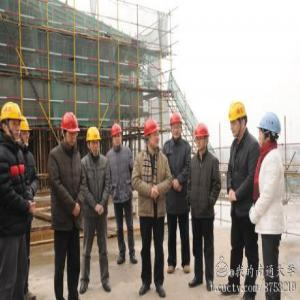blue: (258, 114, 281, 149)
red: (61, 112, 81, 147), (144, 120, 163, 152), (195, 123, 210, 153), (171, 113, 183, 141), (111, 123, 122, 146)
yellow: (3, 100, 25, 140), (230, 101, 249, 140), (85, 126, 103, 158), (18, 117, 32, 146)
